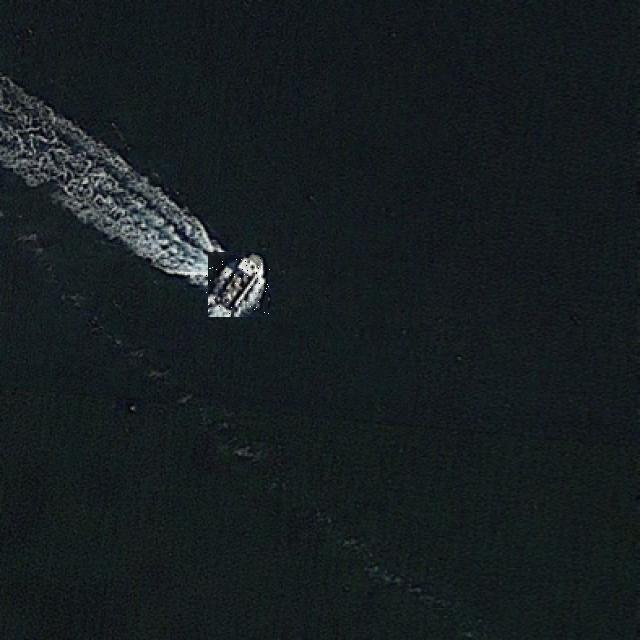boat: (206, 253, 270, 315)
